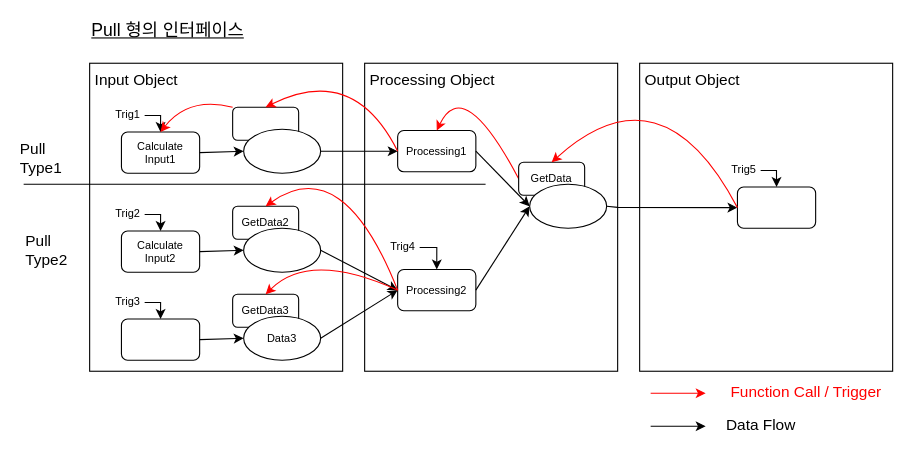
Some shapes in this 913 by 454 pixel diagram are drawn without their labels. Each missing label, with the centre of its shape:
"Calculate Input3" belongs at point (160, 339).
"Calculate Output" belongs at point (776, 207).
"Data Proce." belongs at point (568, 205).
"Data1" belongs at point (282, 150).
"Data2" belongs at point (282, 249).
"GetData1" belongs at point (265, 123).
